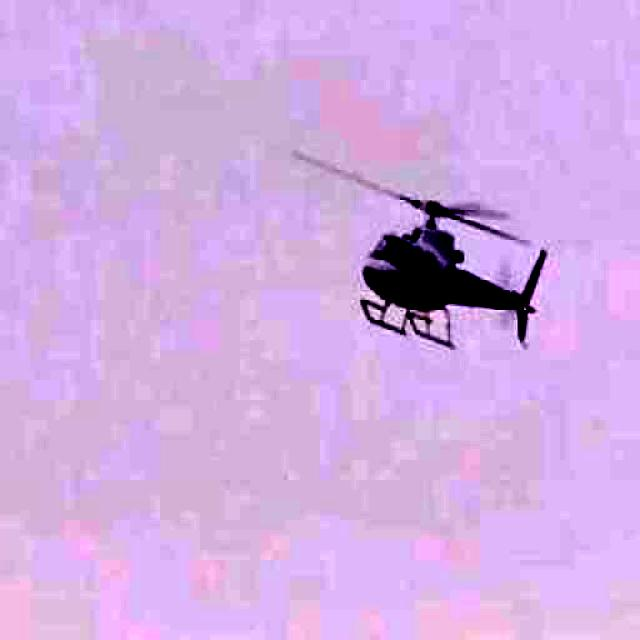drone: (291, 138, 562, 369)
